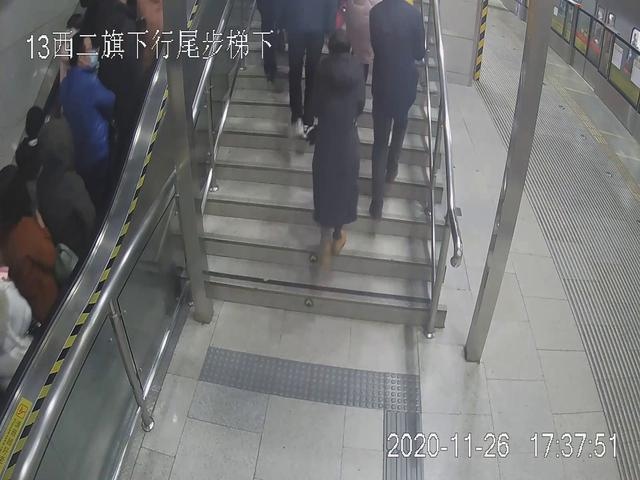person: (292, 31, 368, 263), (359, 1, 430, 229), (46, 28, 120, 218)
